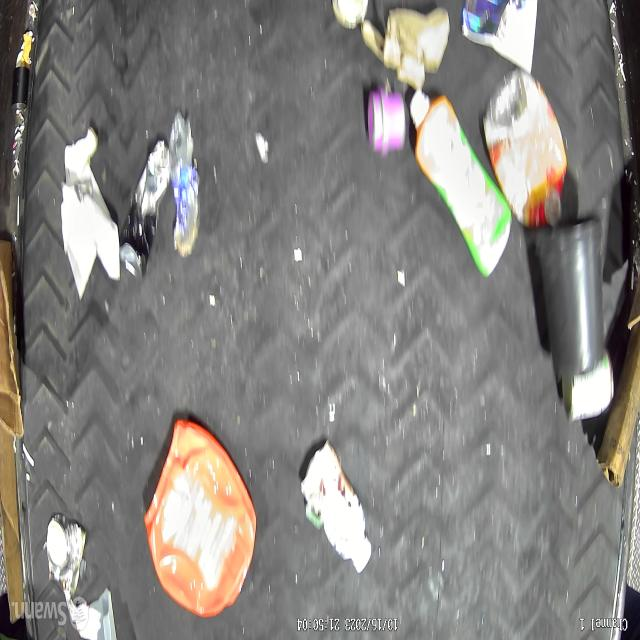can: (120, 138, 173, 284), (559, 349, 616, 424), (43, 510, 87, 602), (330, 0, 370, 32)
non_white_jug: (143, 413, 257, 623)
plastic_bottle: (168, 108, 201, 260)
